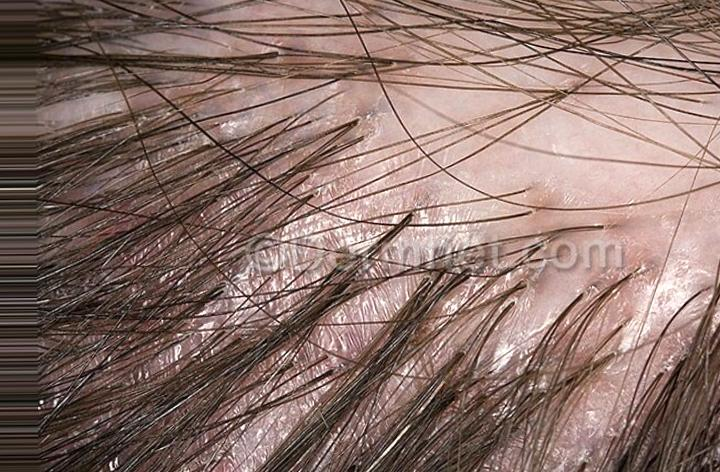Folliculitis: (225, 30, 679, 381)
